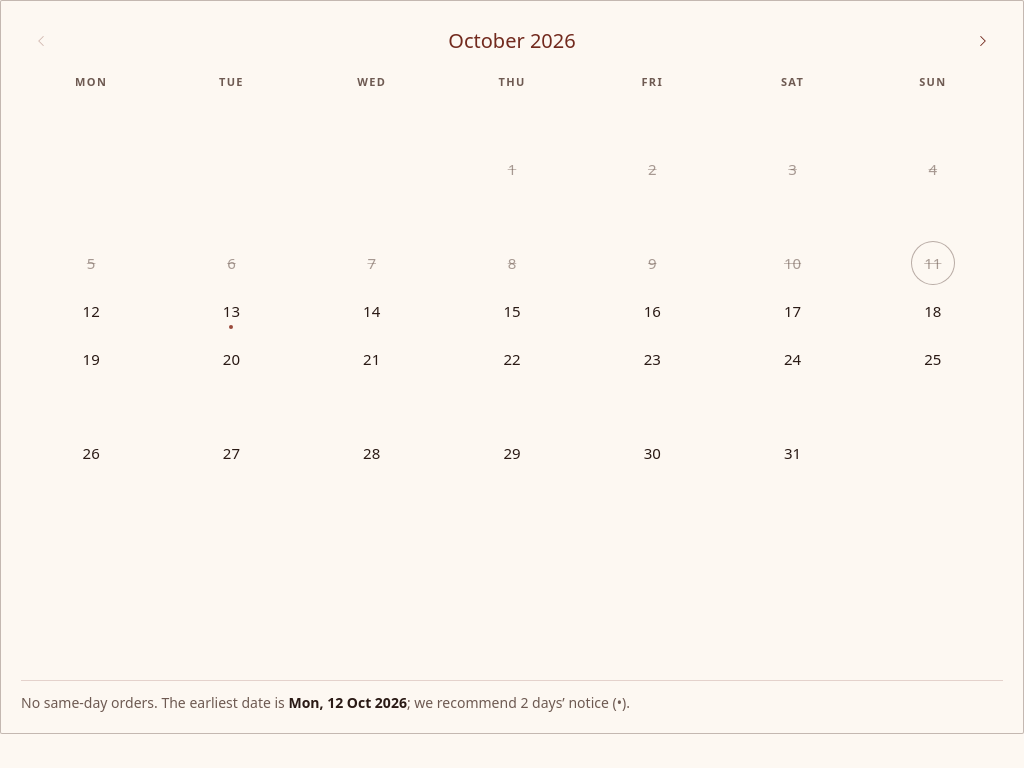
Test: DatePicker › rejects today and accepts tomorrow
Click the button "11". click: point(933, 263)
box: left=911, top=241, right=955, bottom=285
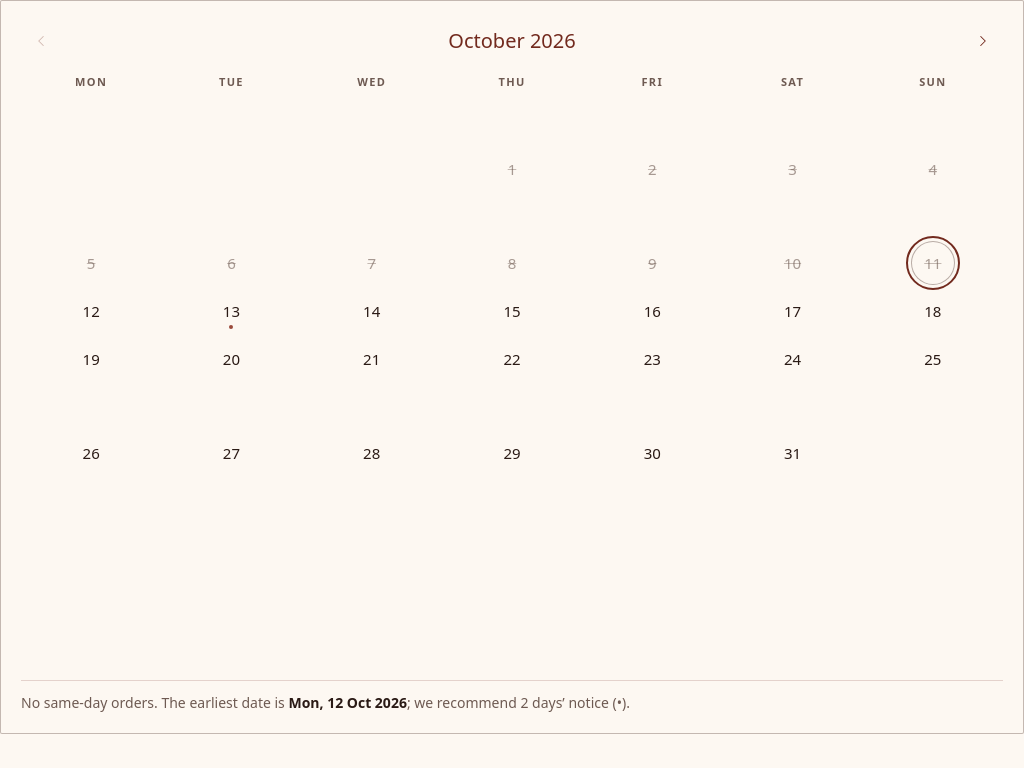
Click the button "12". click: point(91, 311)
box: left=69, top=289, right=113, bottom=333
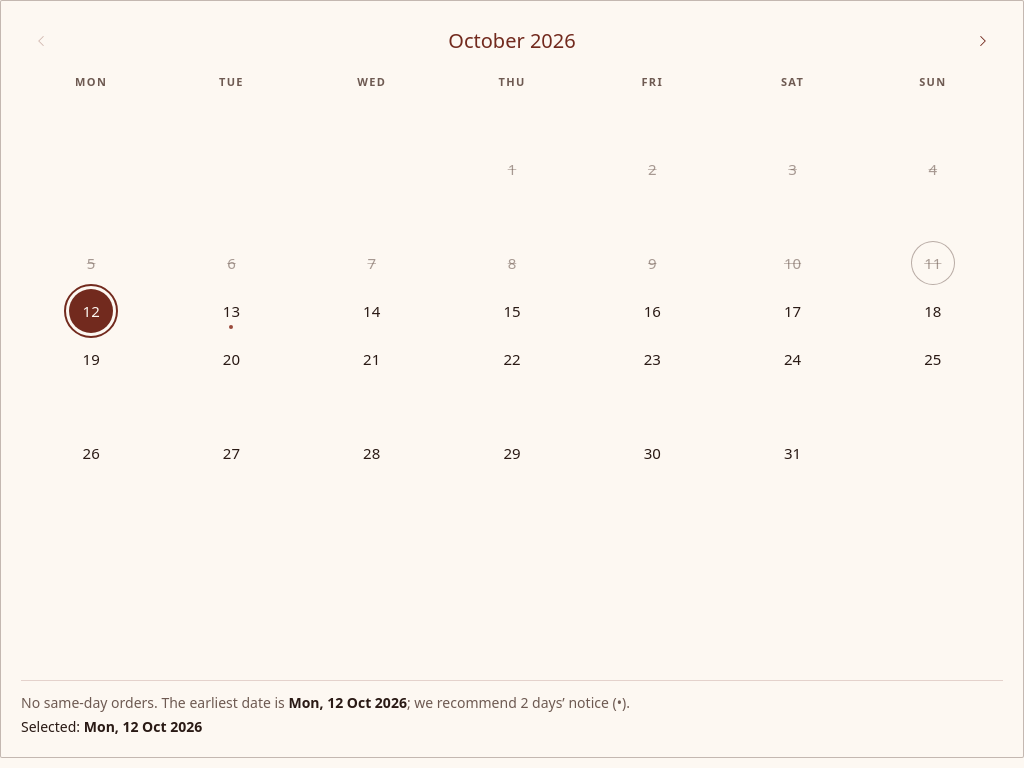
Check: the text "Selected: Mon, 12 Oct 2026" is shown, box left=21, top=717, right=202, bottom=736
